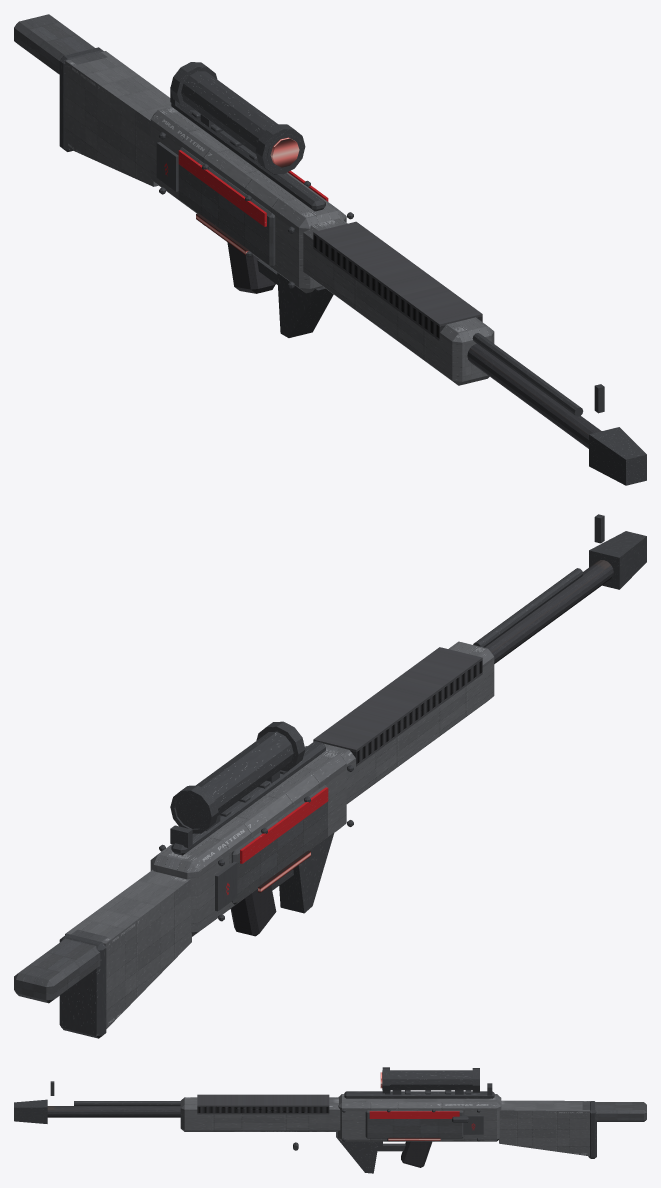
File: mra_sniper.obj
The picture shows the model from 3 angles, top to bottom: view 1: azimuth 30°, elevation 25°; view 2: azimuth 150°, elevation 25°; view 3: azimuth 270°, elevation 25°; orthographic projection. The views are drawn at different scales.
Visible parts, largest first — view 1: mra_sniper; view 2: mra_sniper; view 3: mra_sniper.
Boxes of the visible parts, x1=… form: mra_sniper: x1=14, y1=14, x2=646, y2=485; mra_sniper: x1=14, y1=514, x2=646, y2=1038; mra_sniper: x1=14, y1=1067, x2=646, y2=1173.
Size of the model in its own units: 0.0878 by 0.2341 by 1.32.
Materials: 1 (1 with a texture image).
